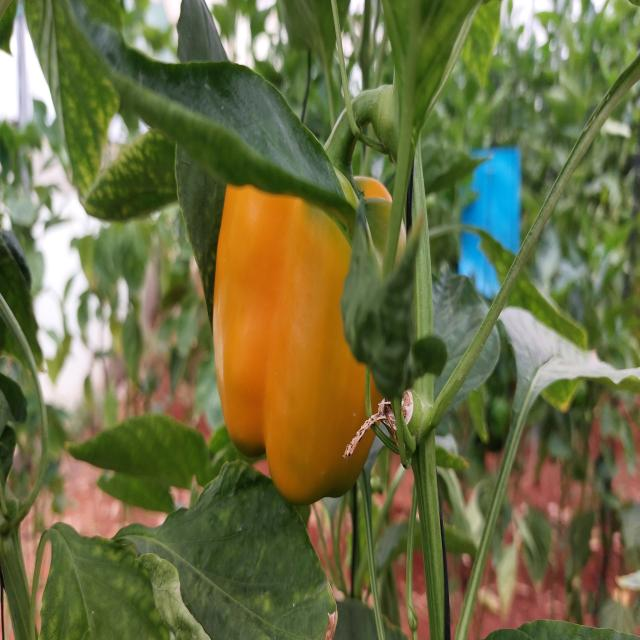Yellow-Ready-to-Harvest: (211, 174, 377, 503)
